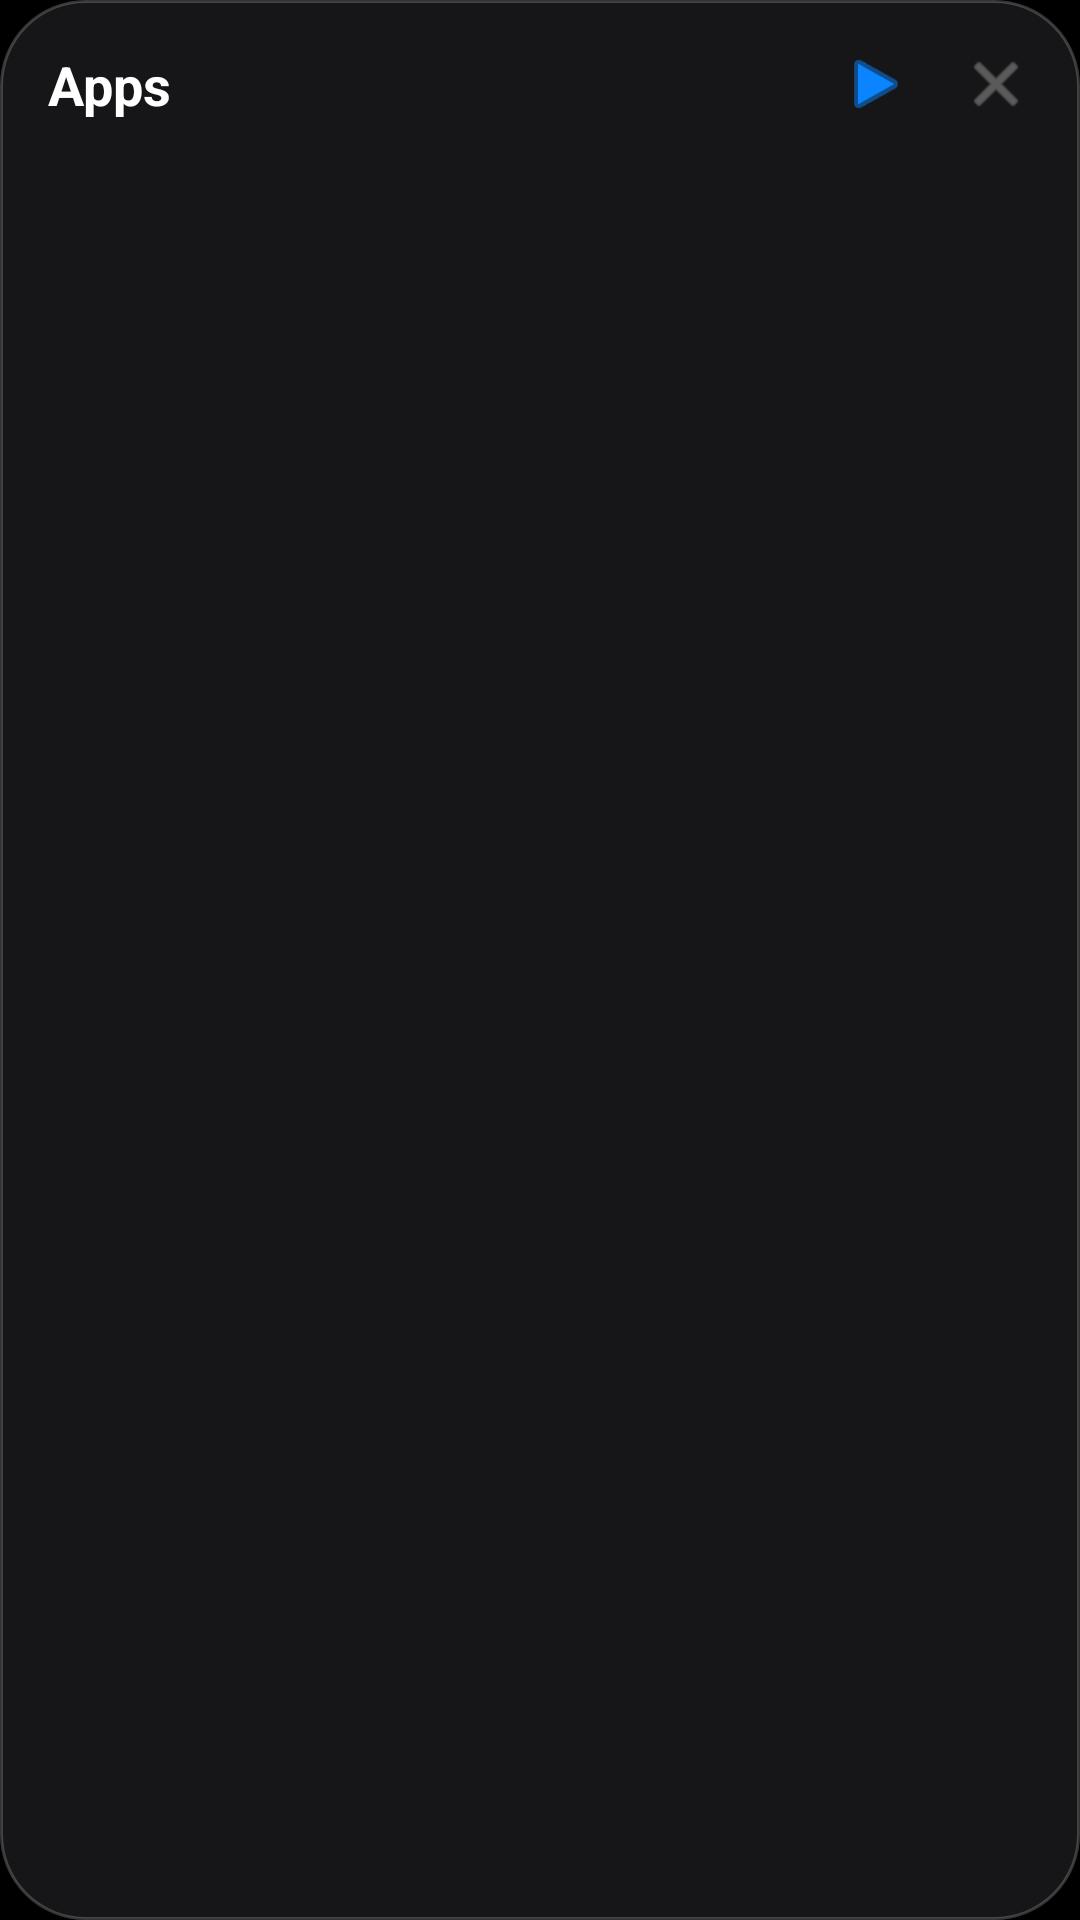

Screen size 1080 × 1920. Icon name, then its center in pixels as point (x, y):
close clear cancel: point (996, 84)
play: point (876, 84)
